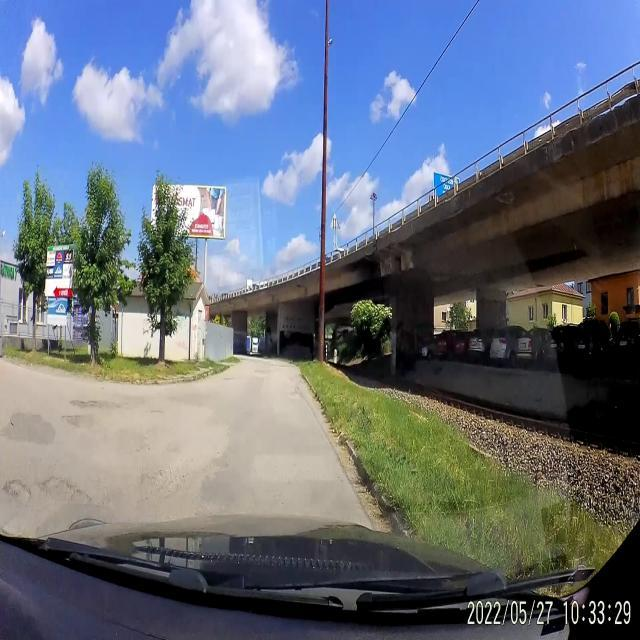Pothole: (125, 467, 192, 512), (38, 461, 92, 508), (3, 471, 34, 506), (68, 394, 122, 414), (61, 408, 97, 430), (142, 408, 165, 418), (220, 376, 234, 384)
